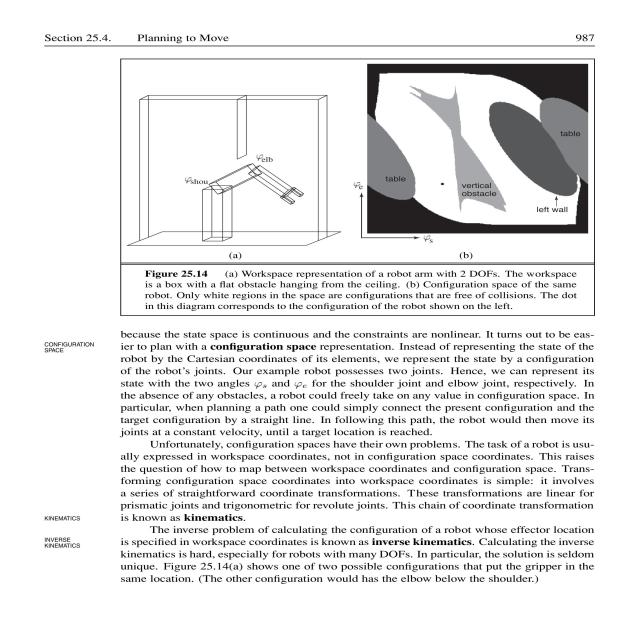diagram: (110, 55, 604, 318)
